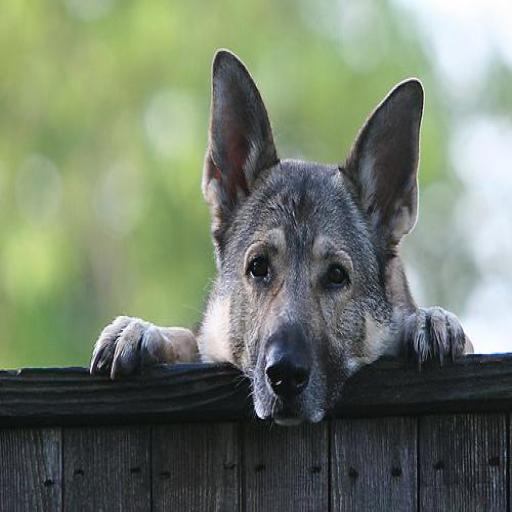dog_face: (195, 29, 431, 428)
